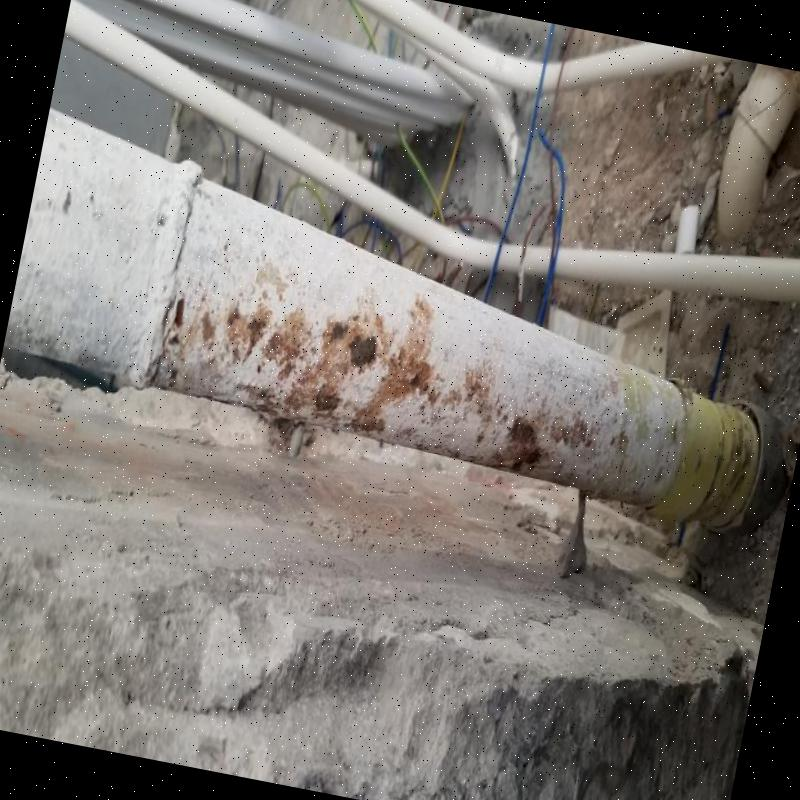corrosion: (140, 282, 585, 472)
